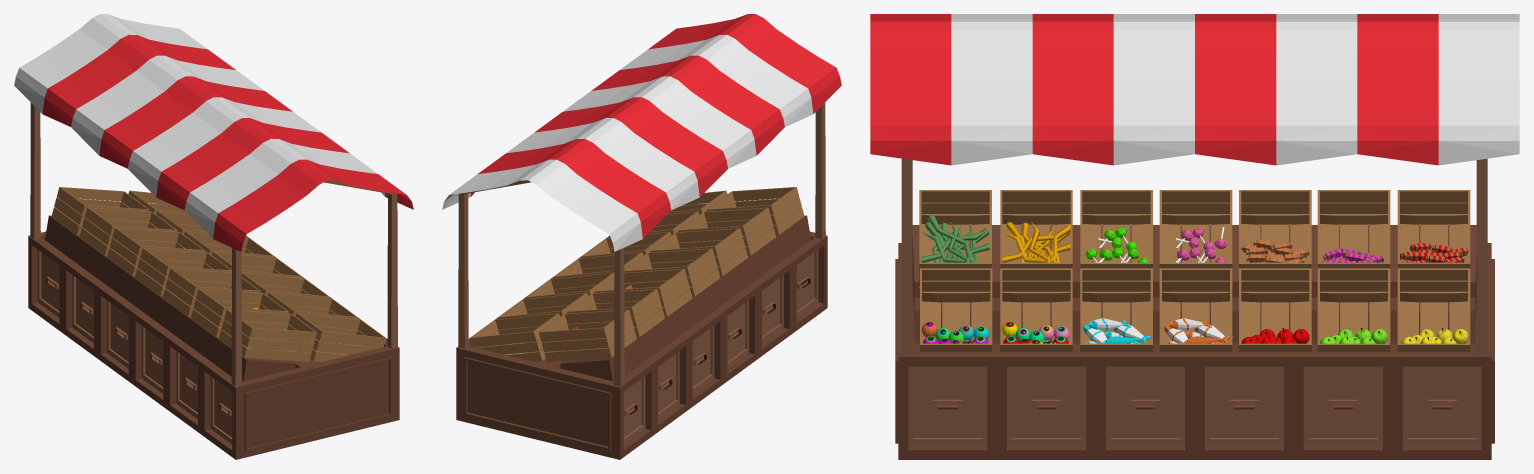
Rendered from IngredientStand.fbx.
3 renders of one model, left to right at view 1: azimuth 30°, elevation 25°; view 2: azimuth 150°, elevation 25°; view 3: azimuth 270°, elevation 25°, orthographic. The views are drawn at different scales.
Visible parts, largest first — view 1: IngredientStand; view 2: IngredientStand; view 3: IngredientStand.
Boxes of the visible parts, x1,y1,x2,y2 form: IngredientStand: [14, 14, 413, 459]; IngredientStand: [442, 14, 841, 459]; IngredientStand: [870, 14, 1519, 459].
Size of the model in its own units: 720 by 1065 by 1645.
